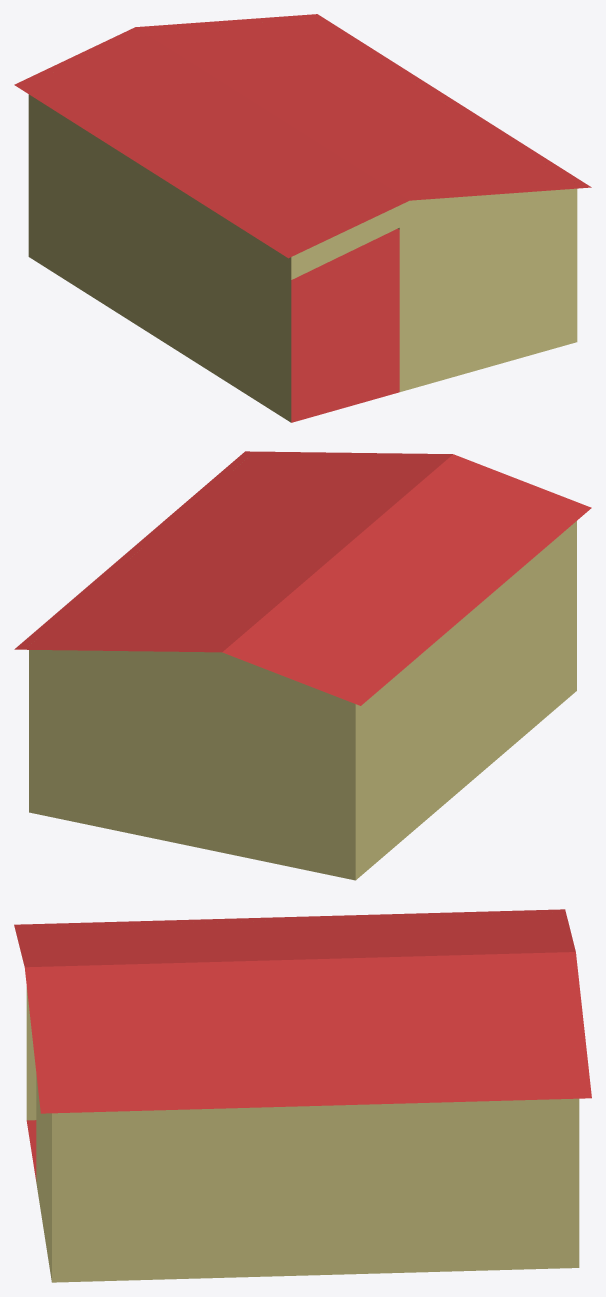
3 views of the same model, one above another, from view 1: azimuth 30°, elevation 25°; view 2: azimuth 150°, elevation 25°; view 3: azimuth 270°, elevation 25° (orthographic). The views are drawn at different scales.
Size of the model in its own units: 18.67 by 24.31 by 10.08.
